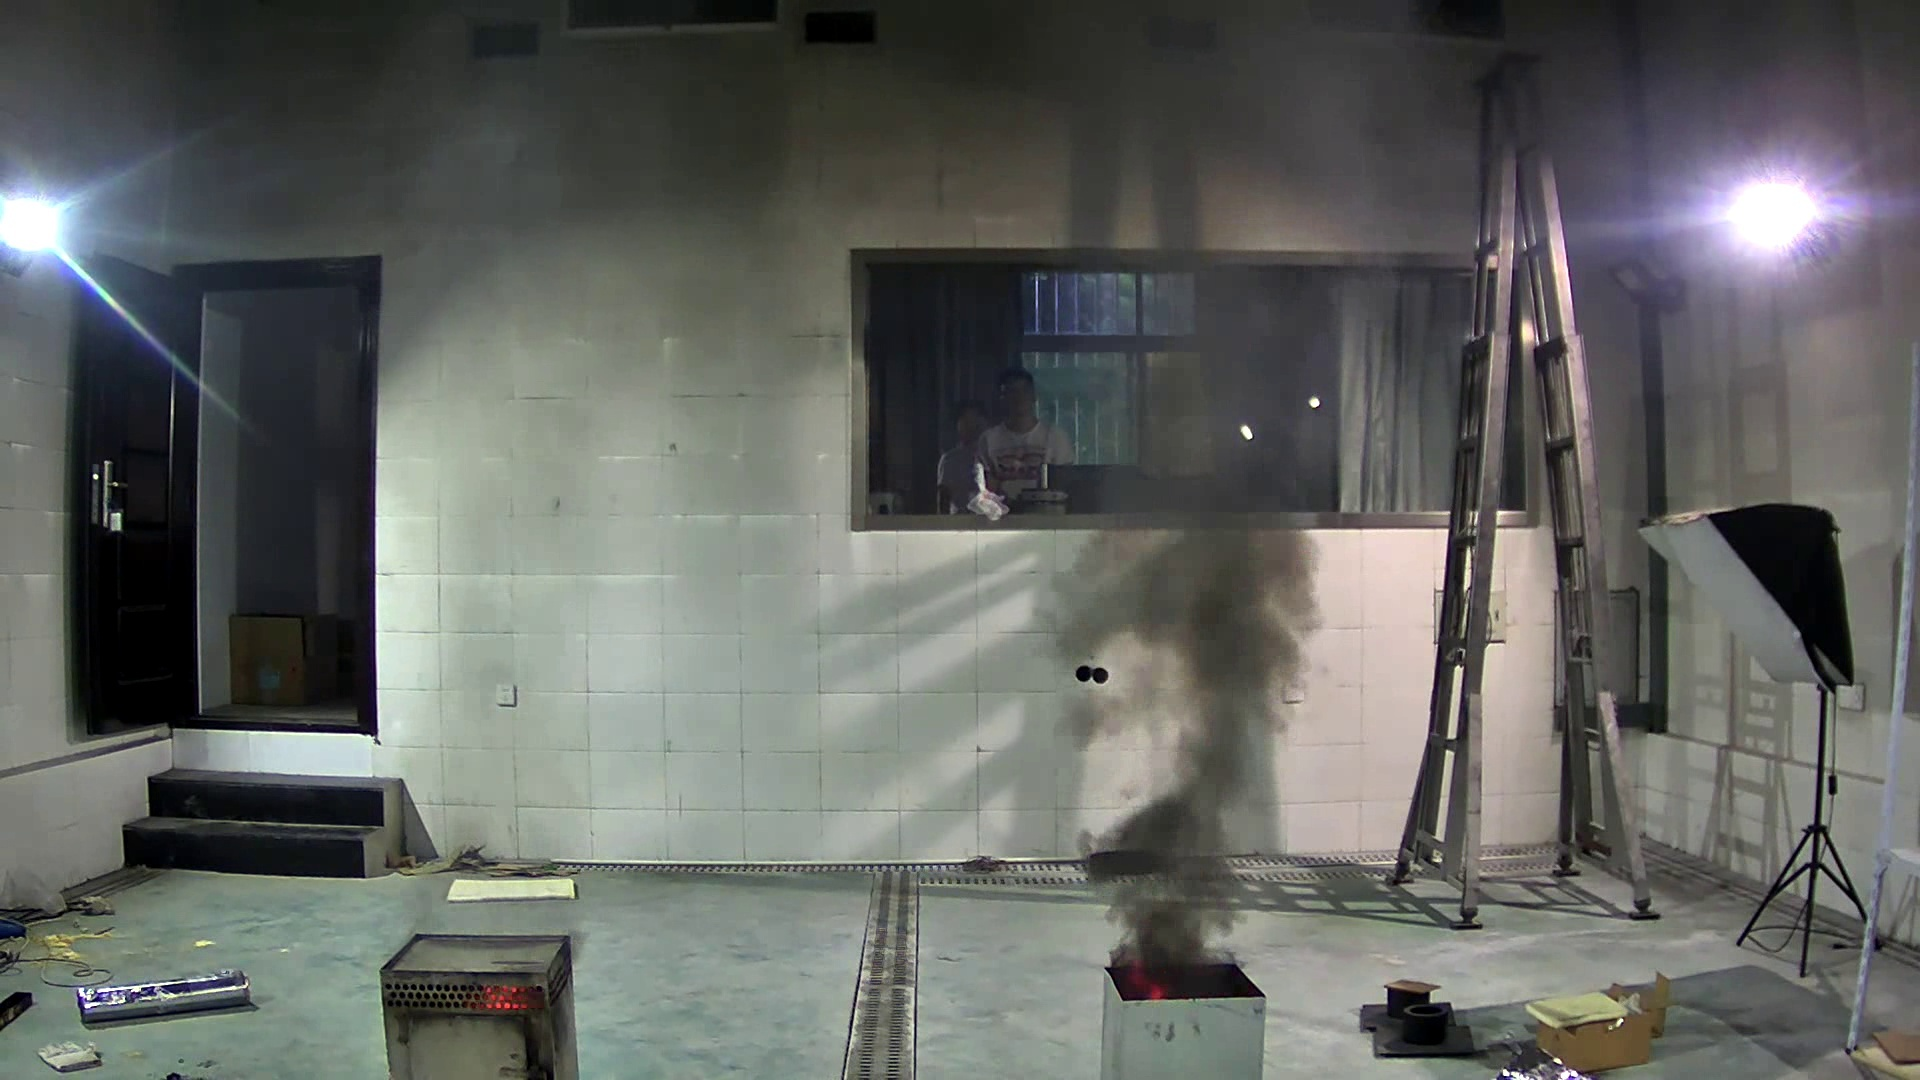smoke: (1031, 493, 1338, 959)
